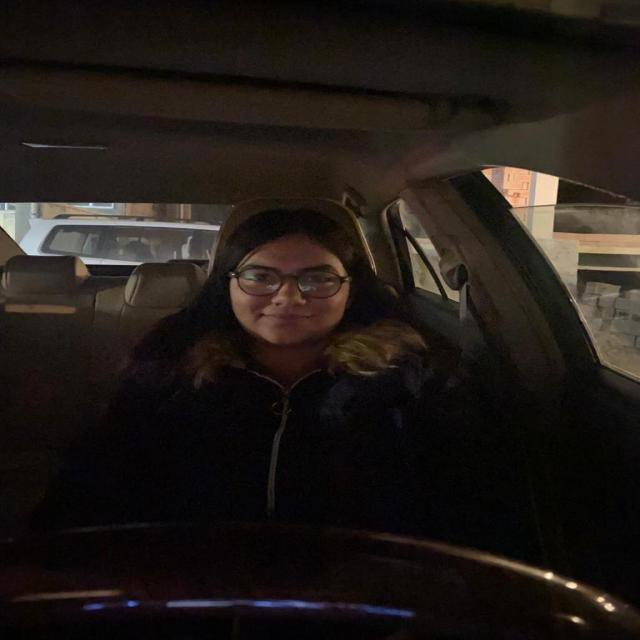person: (213, 213, 373, 337)
